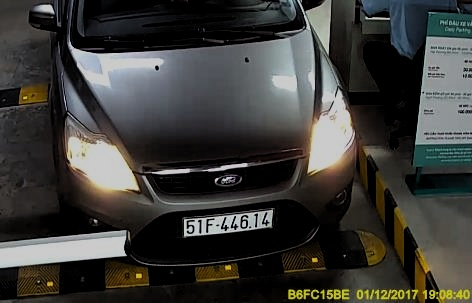plate: (179, 208, 277, 235)
